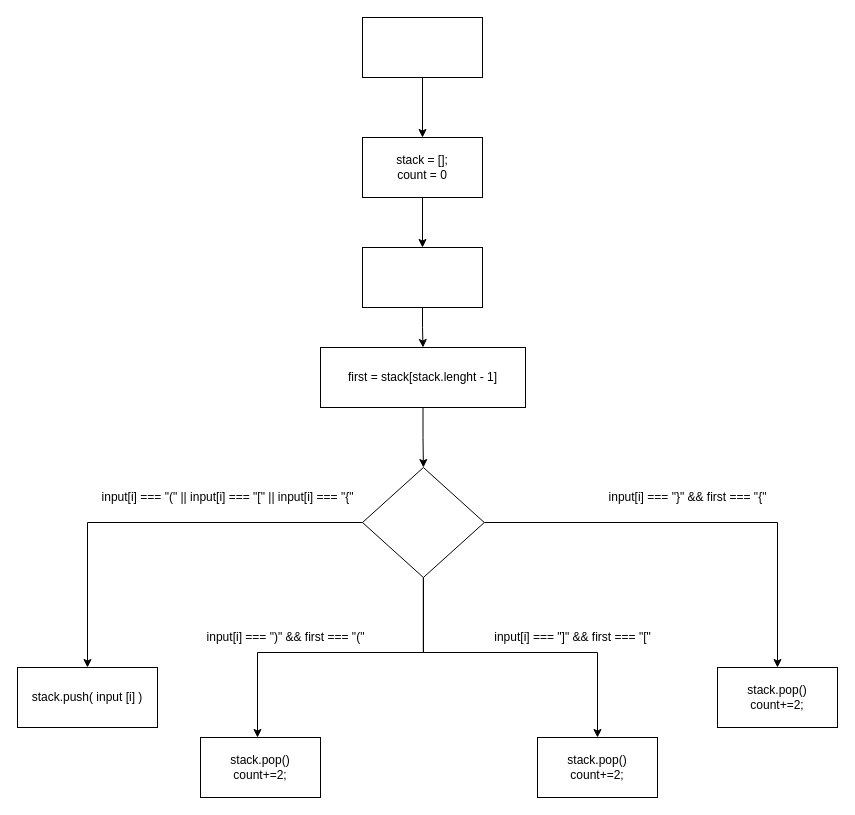
Image size: 855x815. Some labels were removed from this diagram. The shapes that lost their labels are listed below. From the top down, each one's box as (x1, y1, x2, y2) in pixels, then its label:
(362, 16, 482, 78): input = (){}[]; lenght = input.lenght
(362, 246, 482, 308): for (i=0; i<lenght; i++)
